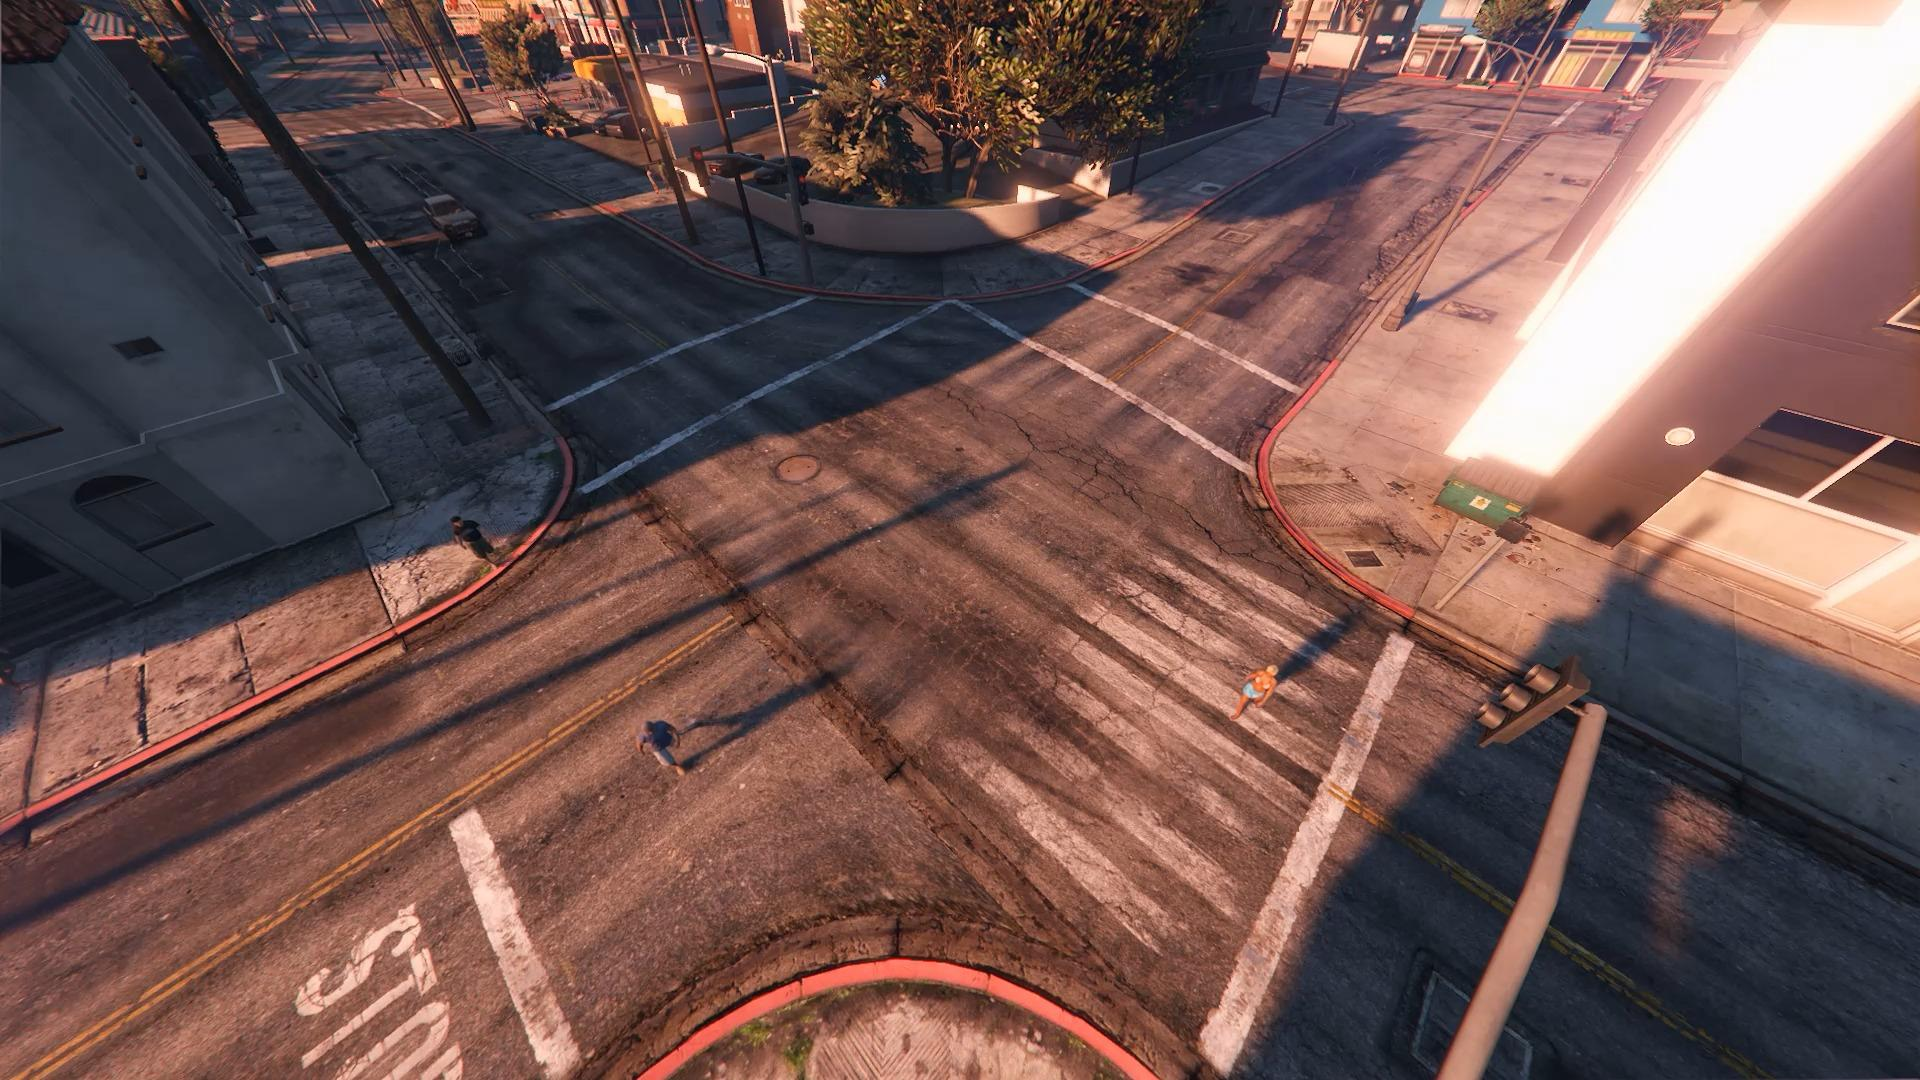car: (422, 190, 485, 243)
